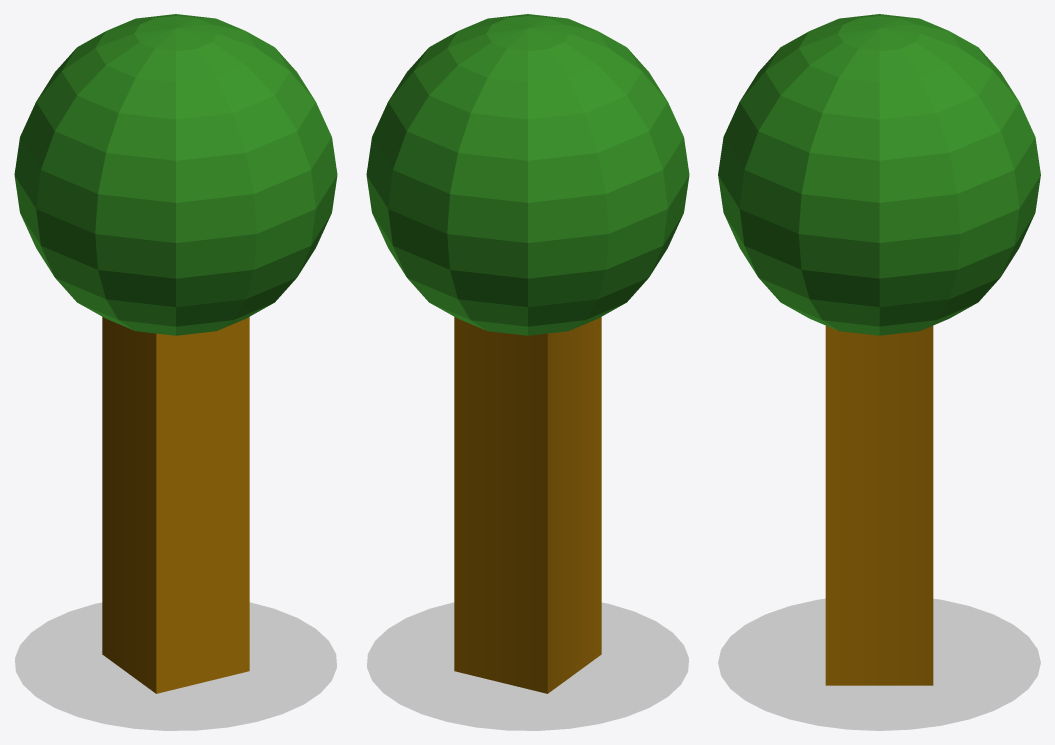
File: round-tree.glb
3 views of the same model, side by side, from view 1: azimuth 30°, elevation 25°; view 2: azimuth 150°, elevation 25°; view 3: azimuth 270°, elevation 25° (orthographic).
Parts seen in each view (by area): view 1: round-crown, round-trunk, round-shadow; view 2: round-crown, round-trunk, round-shadow; view 3: round-crown, round-trunk, round-shadow.
Part boxes in pixels (left/top/right/bottom): round-crown: left=14, top=14, right=337, bottom=335; round-trunk: left=102, top=317, right=249, bottom=693; round-shadow: left=15, top=602, right=336, bottom=730; round-crown: left=366, top=14, right=689, bottom=335; round-trunk: left=454, top=317, right=601, bottom=693; round-shadow: left=367, top=602, right=688, bottom=730; round-crown: left=718, top=14, right=1040, bottom=335; round-trunk: left=825, top=326, right=933, bottom=685; round-shadow: left=718, top=598, right=1040, bottom=730.
Bounding box in the file's own units: 0.6 × 1.3 × 0.6.
